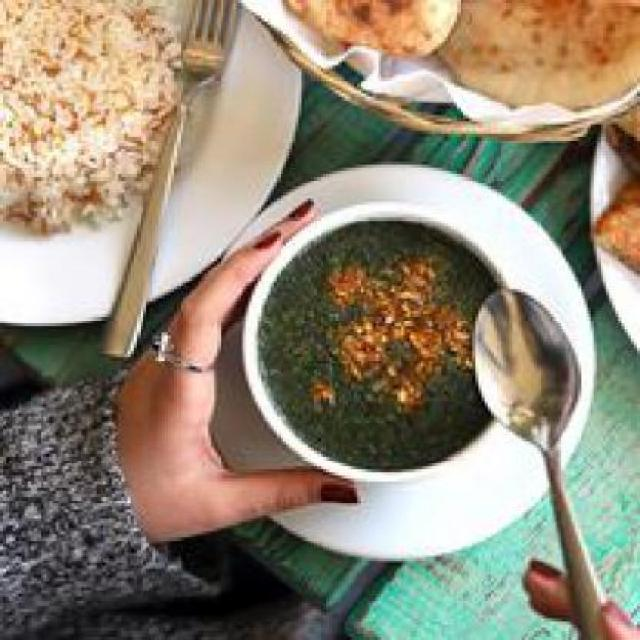molokhia: (247, 208, 516, 482)
